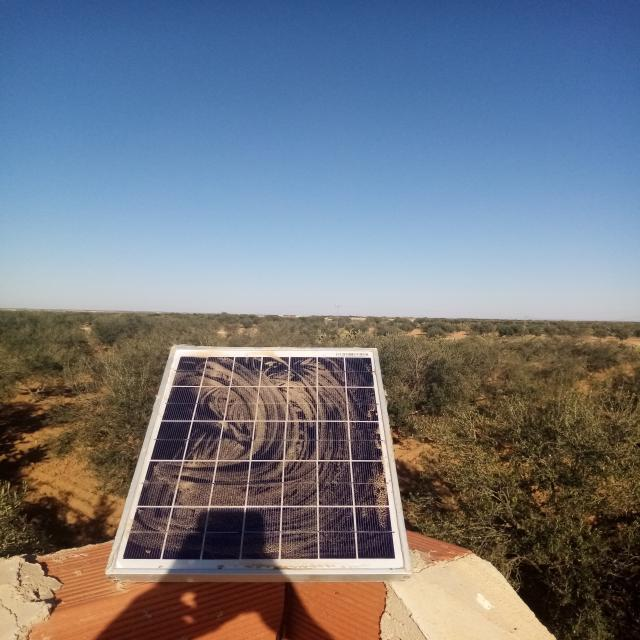faulty: (104, 346, 412, 575)
